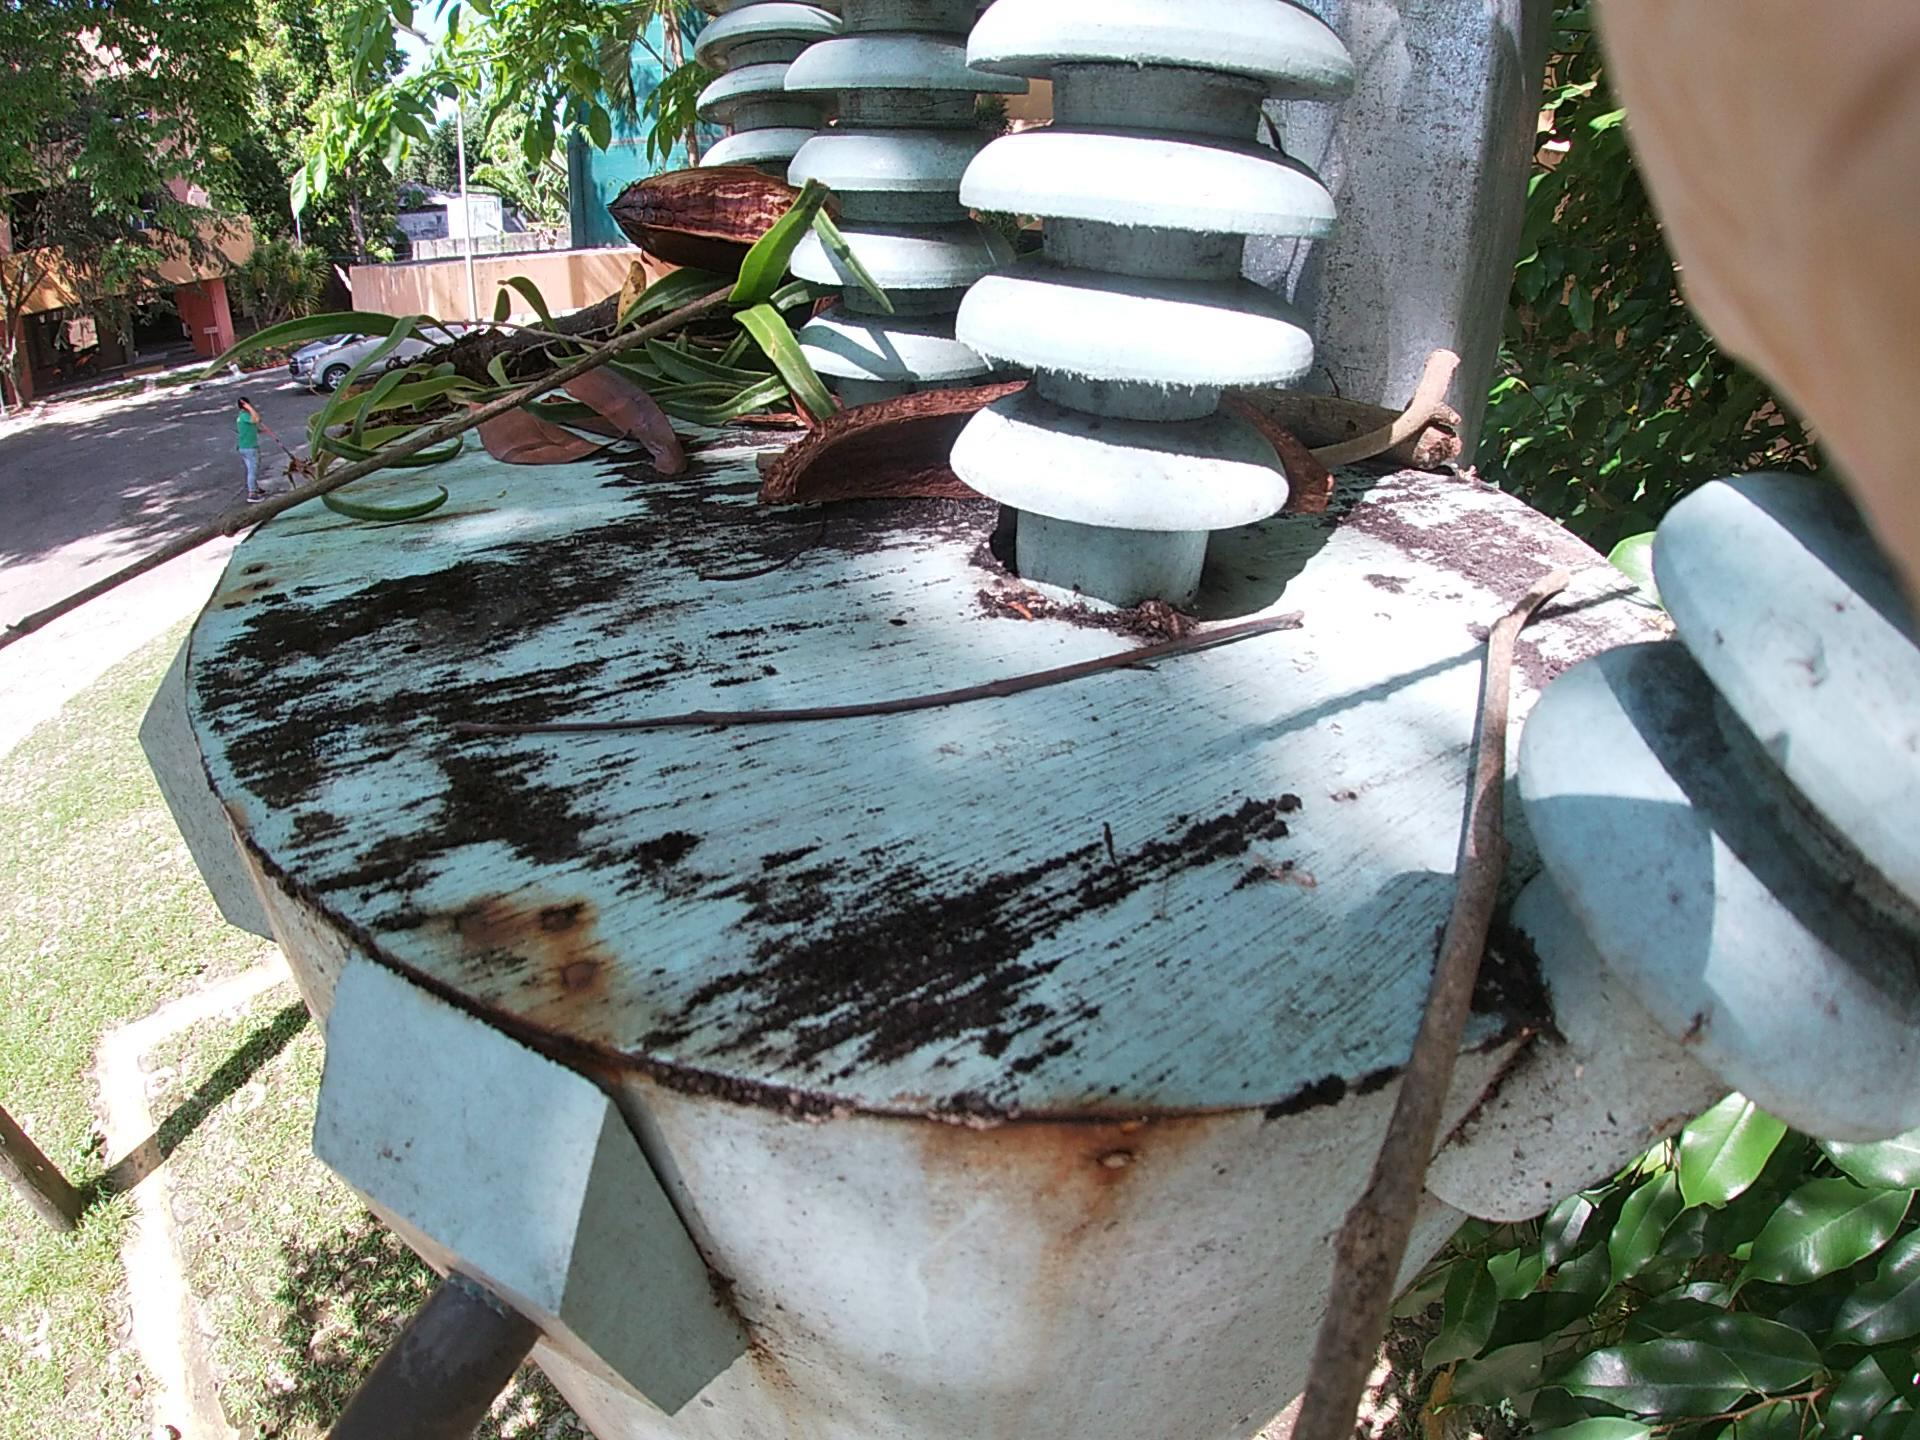branch with leaves: (132, 163, 685, 464)
leaf: (451, 340, 603, 483)
mahogany fruit: (603, 123, 1163, 413), (782, 331, 1330, 535)
tree branch: (293, 150, 910, 563), (1383, 526, 1587, 1346), (343, 575, 1321, 726), (1219, 312, 1460, 460)
